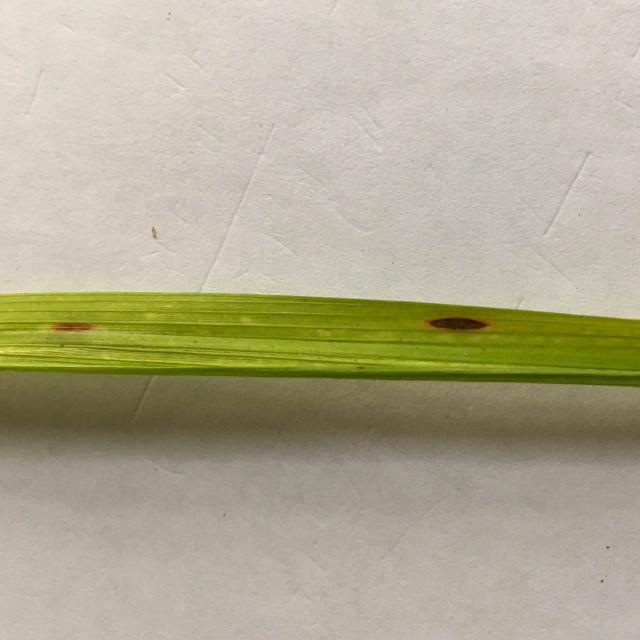brownspots: (416, 306, 498, 342), (38, 316, 100, 338)
